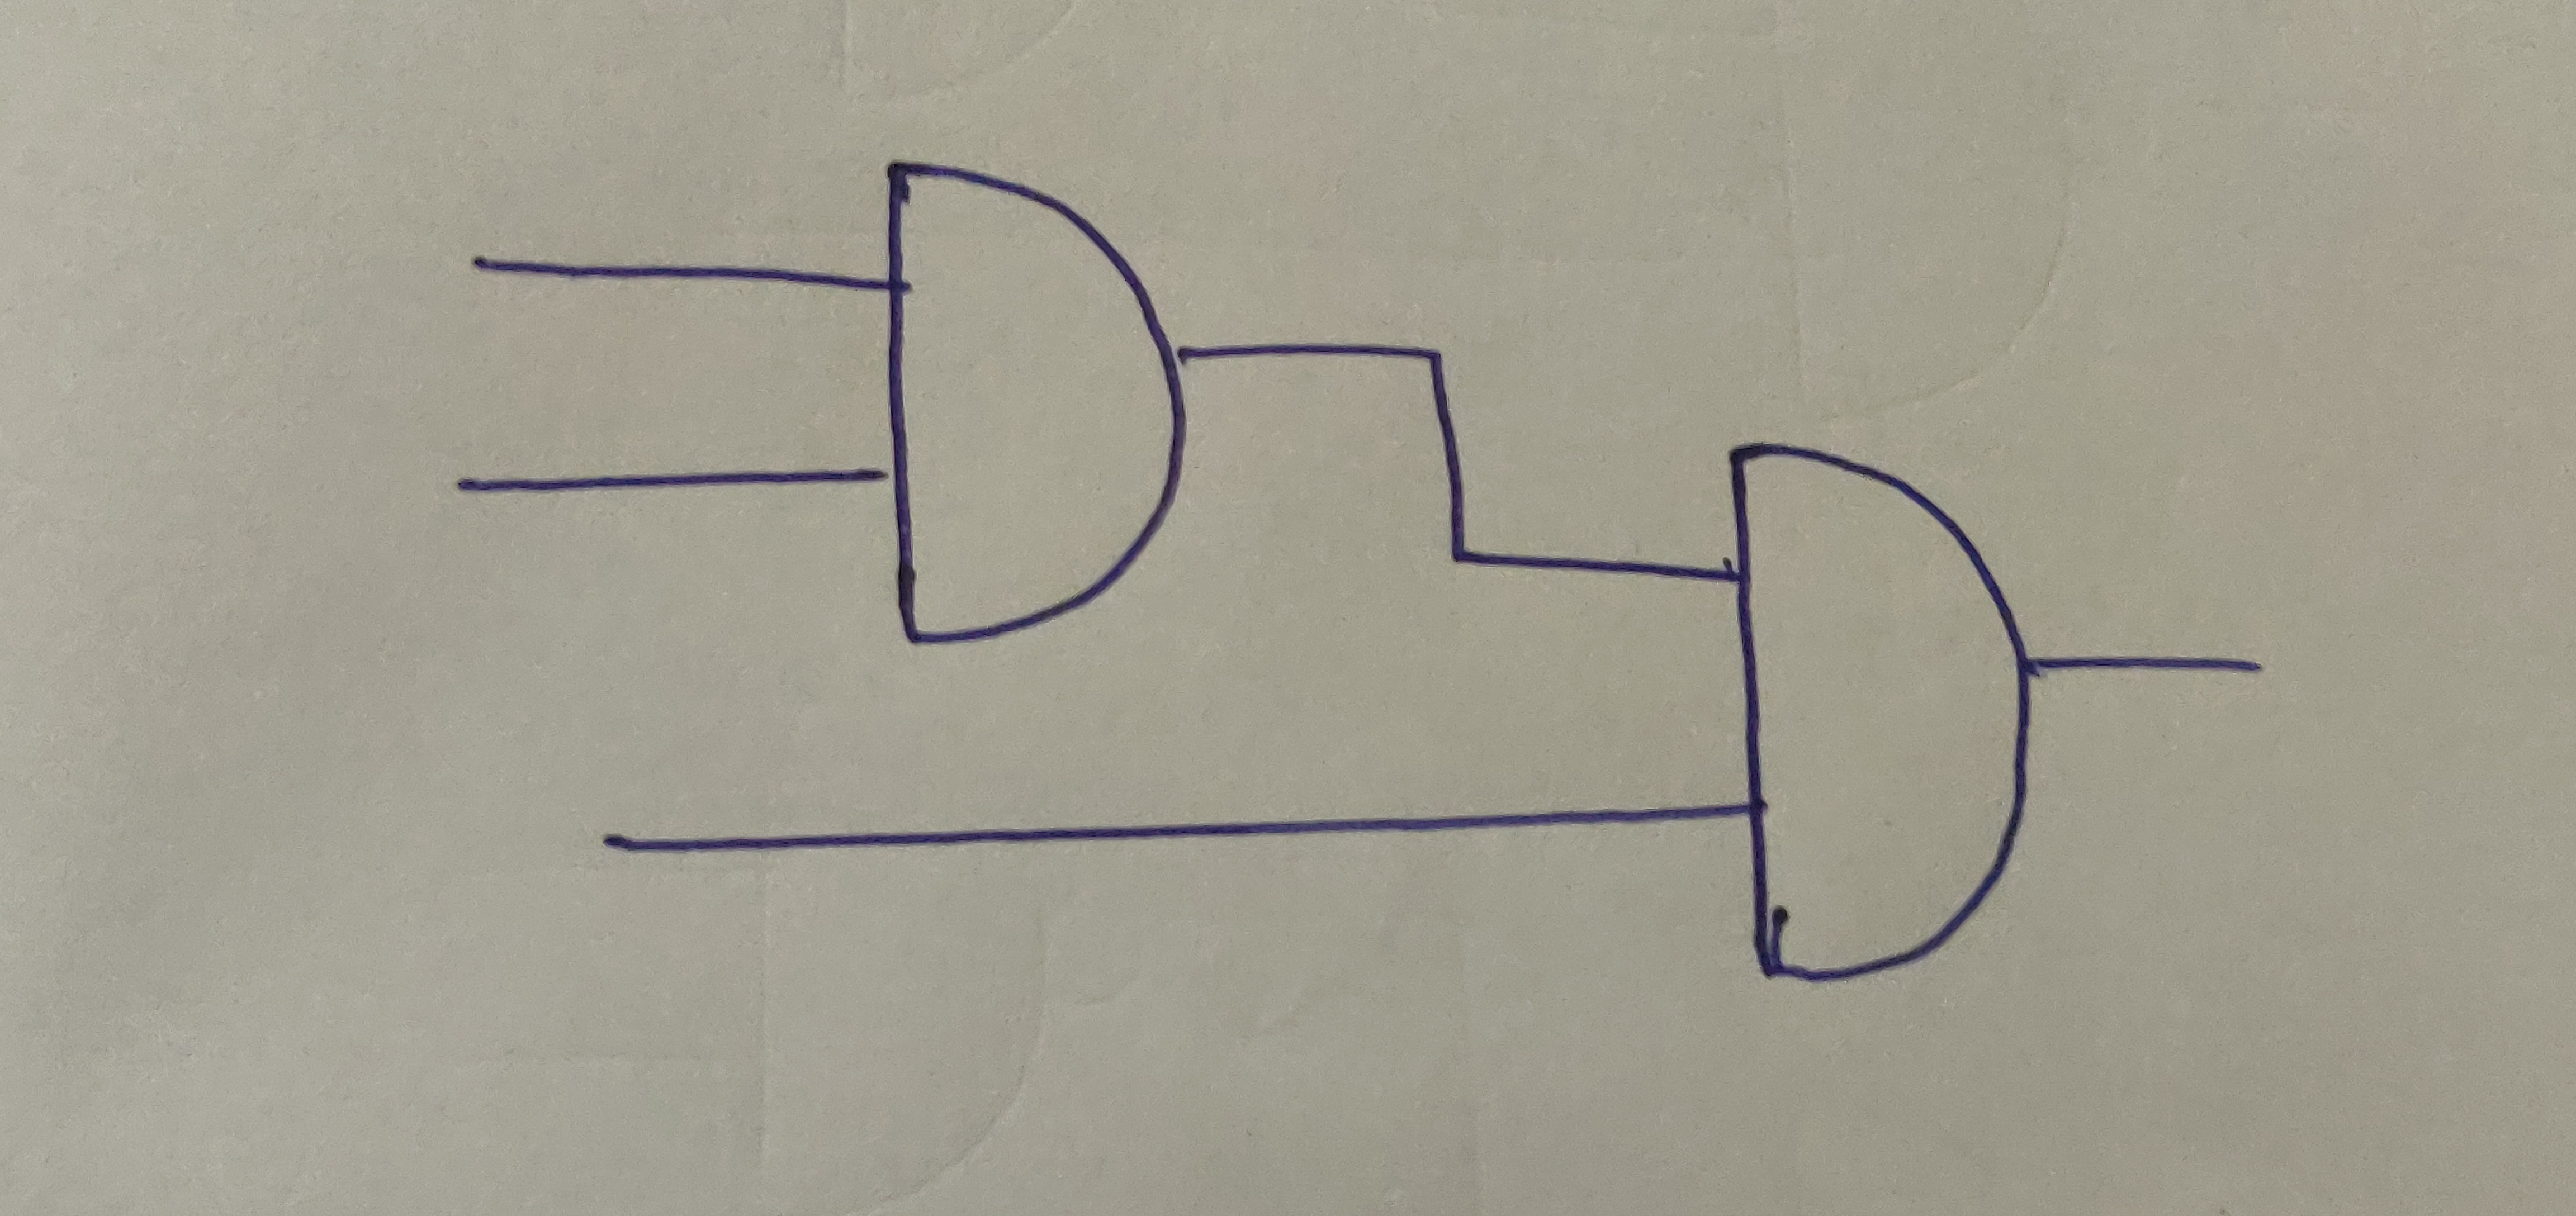and: (1727, 442, 2036, 983), (885, 163, 1186, 646)
